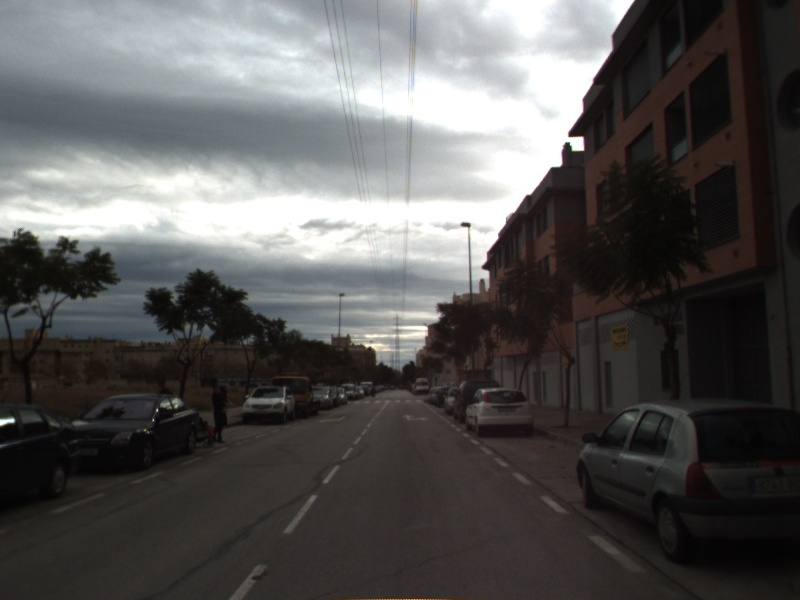STRAIGHT_RIGHT: (399, 412, 431, 424)
